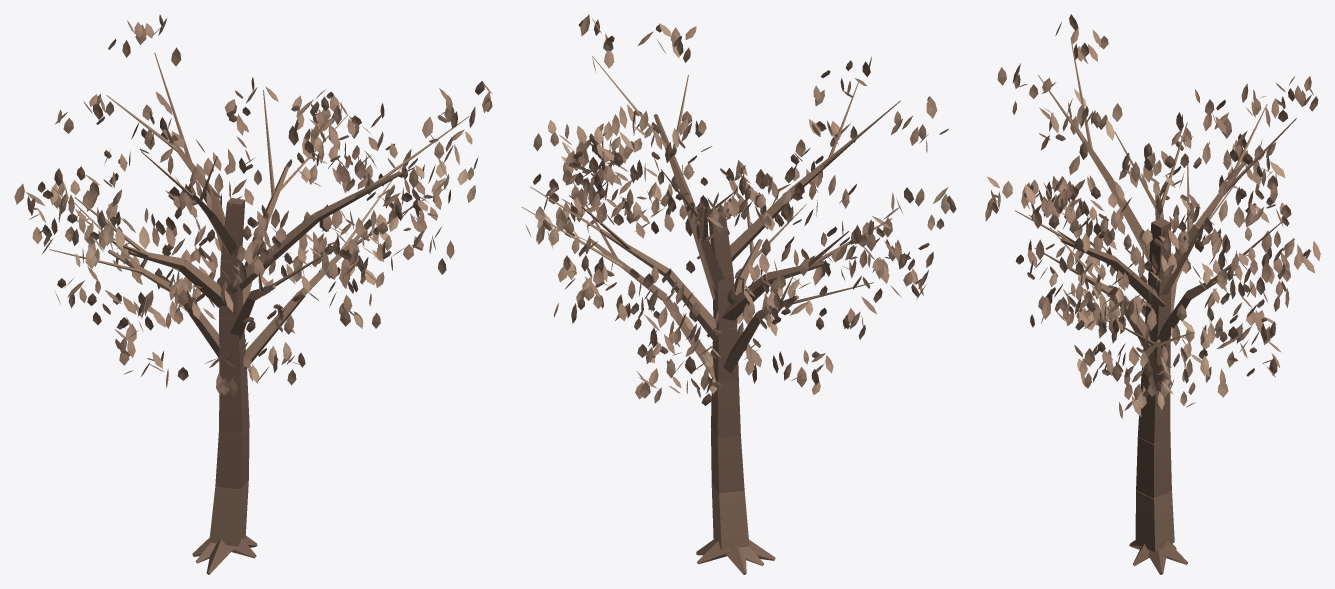
File: tree_3d_05_copper.glb
The picture shows the model from 3 angles, left to right: view 1: azimuth 30°, elevation 25°; view 2: azimuth 150°, elevation 25°; view 3: azimuth 270°, elevation 25°; orthographic projection. The views are drawn at different scales.
Parts seen in each view (by area): view 1: tree_3d_05_copper_foliage, tree_3d_05_copper_wood; view 2: tree_3d_05_copper_foliage, tree_3d_05_copper_wood; view 3: tree_3d_05_copper_foliage, tree_3d_05_copper_wood.
Boxes of the visible parts, x1,y1,x2,y2 form: tree_3d_05_copper_foliage: (14,14,492,396); tree_3d_05_copper_wood: (49,52,469,574); tree_3d_05_copper_foliage: (525,14,956,405); tree_3d_05_copper_wood: (521,56,900,574); tree_3d_05_copper_foliage: (985,14,1320,418); tree_3d_05_copper_wood: (1014,40,1296,574).
Bounding box in the file's own units: 12.5 × 14.5 × 9.2.
